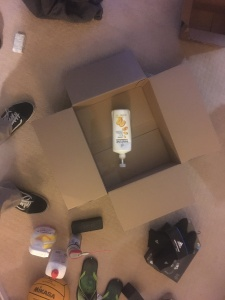innerbox: (84, 86, 163, 183)
outerbox: (58, 64, 202, 212)
product: (111, 110, 131, 168)
